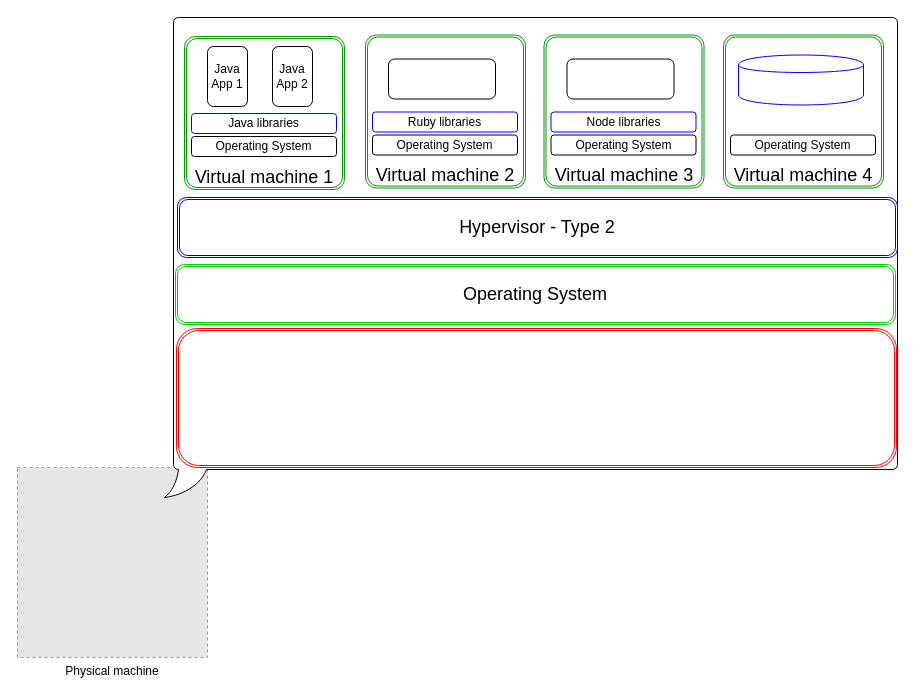
The diagram is 915 pixels wide and 696 high, and some of its shapes have lost their labels. Grey dashed boxes stand in for pictures. The shapes that lost their labels are listed below. From the top down, each one's centre as x and y in pixels, then its label:
At point (442, 78): "Ruby App 1".
At point (620, 78): "Node App 1".
At point (801, 79): "MySQL".
At point (536, 398): "Hardware 1024 GB RAM, 256 CPU cores, 4 GPU, 8 NIC".
